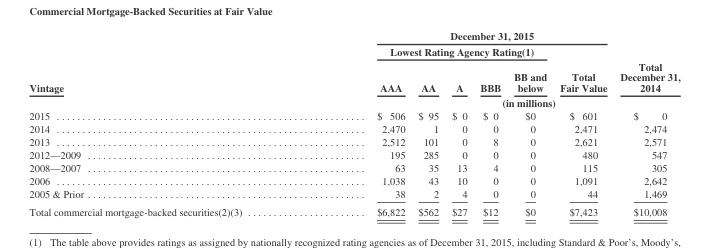table: (28, 29, 679, 216)
table column: (28, 29, 308, 216), (308, 29, 411, 216), (613, 29, 679, 216), (552, 29, 613, 216), (506, 29, 552, 216), (411, 29, 444, 216), (473, 29, 506, 216), (444, 29, 473, 216)
table column header: (28, 29, 679, 109)
table row: (28, 63, 679, 94), (28, 43, 679, 63), (28, 186, 679, 202), (28, 94, 679, 109), (28, 29, 679, 43), (28, 202, 679, 216), (28, 109, 679, 122), (28, 134, 679, 147), (28, 147, 679, 160), (28, 160, 679, 173), (28, 173, 679, 186), (28, 122, 679, 134)
table spanning cell: (28, 29, 308, 109), (308, 94, 679, 109), (308, 43, 552, 63), (613, 29, 679, 94), (308, 29, 613, 43), (552, 43, 613, 94)
